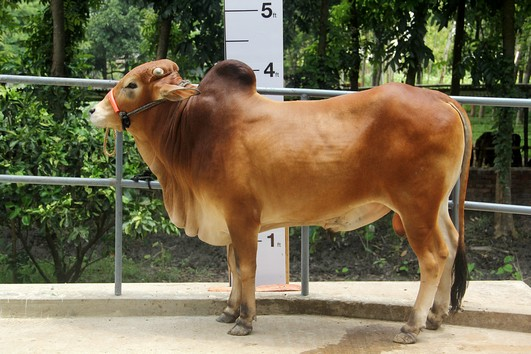cow: (85, 52, 477, 345)
